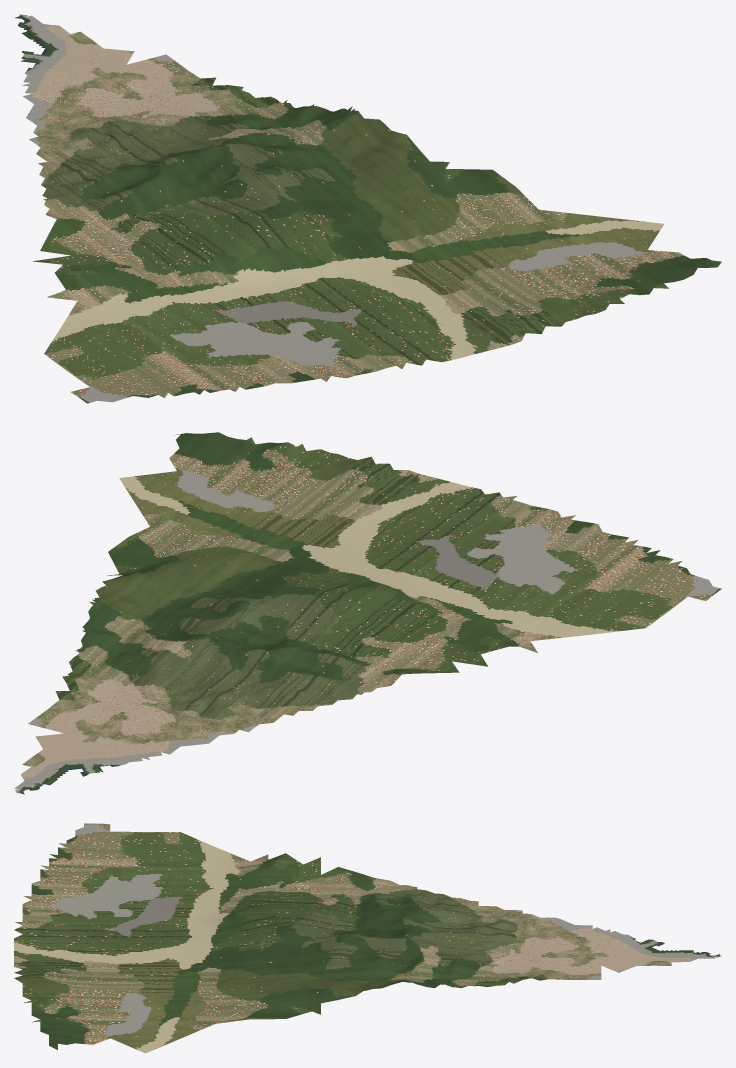
File: SM_Fondale_Colline_NE_v3_LOD1.fbx
3 renders of one model, top to bottom at view 1: azimuth 30°, elevation 25°; view 2: azimuth 150°, elevation 25°; view 3: azimuth 270°, elevation 25°, orthographic. The views are drawn at different scales.
Visible parts, largest first — view 1: SM_Fondale_Colline_NE_v3_LOD1; view 2: SM_Fondale_Colline_NE_v3_LOD1; view 3: SM_Fondale_Colline_NE_v3_LOD1.
Boxes of the visible parts, x1,y1,x2,y2 form: SM_Fondale_Colline_NE_v3_LOD1: (15,14,721,403); SM_Fondale_Colline_NE_v3_LOD1: (14,432,721,794); SM_Fondale_Colline_NE_v3_LOD1: (14,823,721,1053).
Bounding box in the file's own units: 744000 × 969000 × 32931.
1 material, 1 textured.
